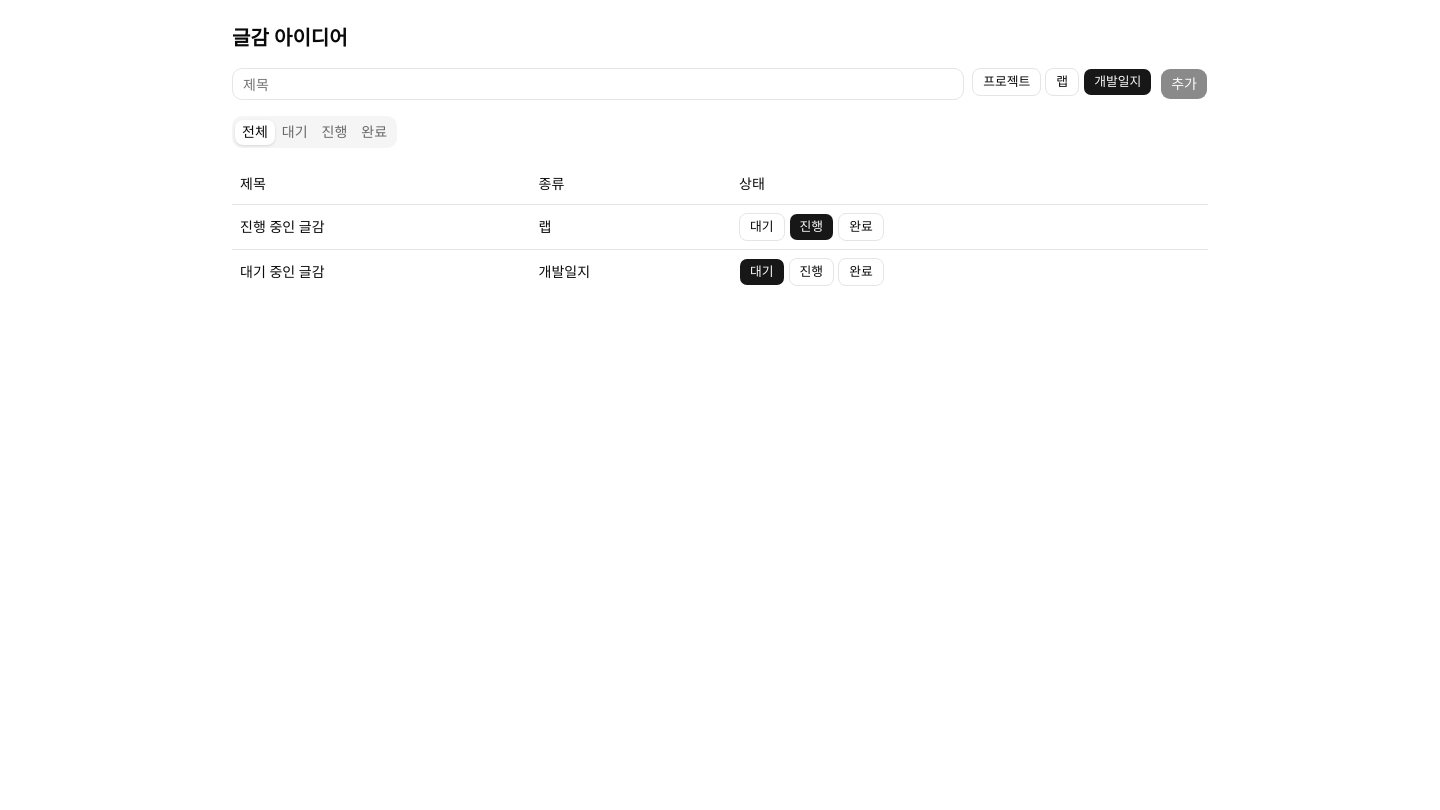
IdeasPage 수정 › 정상 › 수정 다이얼로그에서 취소하면 상세 모달로 돌아가 수정 전 내용이 보여야 한다
Click the text "진행 중인 글감" at {"x": 282, "y": 226}, box 232,204 -> 531,249
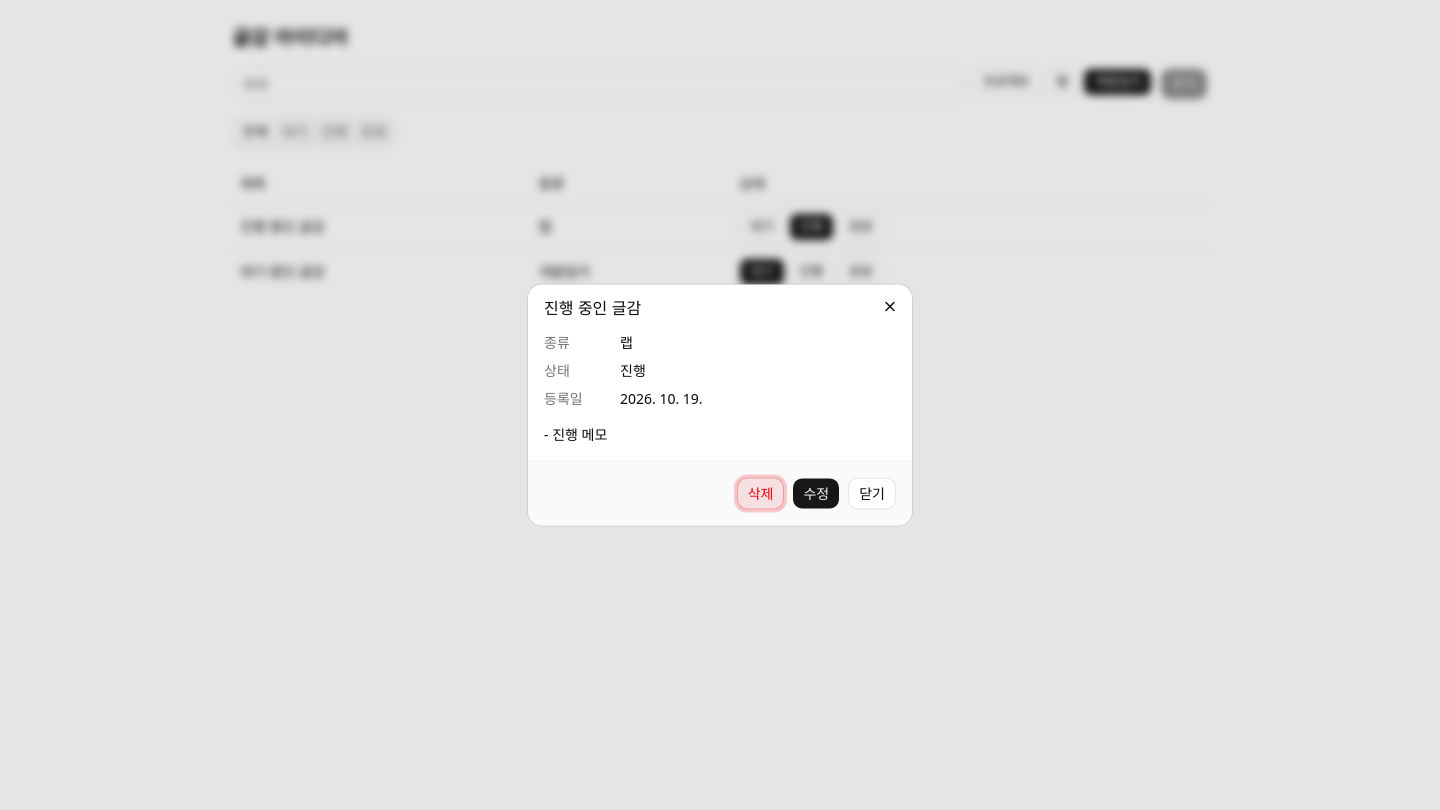
Click the button "수정" at {"x": 816, "y": 494}, box 792,478 -> 840,510
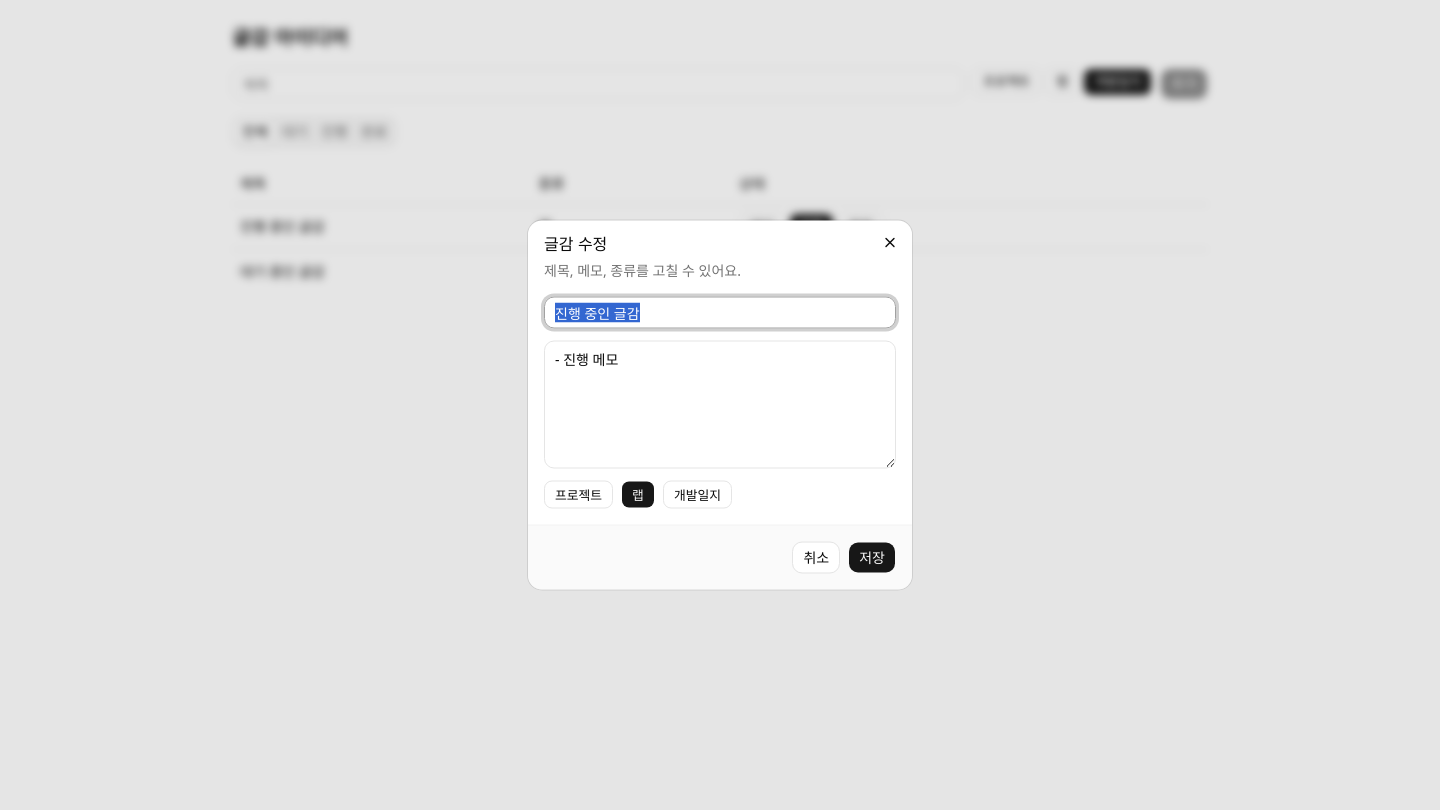
Expected: the button "저장" is shown, 848,542 -> 896,574
Replace the text in the field with placeholder "제목" with "저장하지 않을 제목" at {"x": 720, "y": 312}, box 544,296 -> 896,328
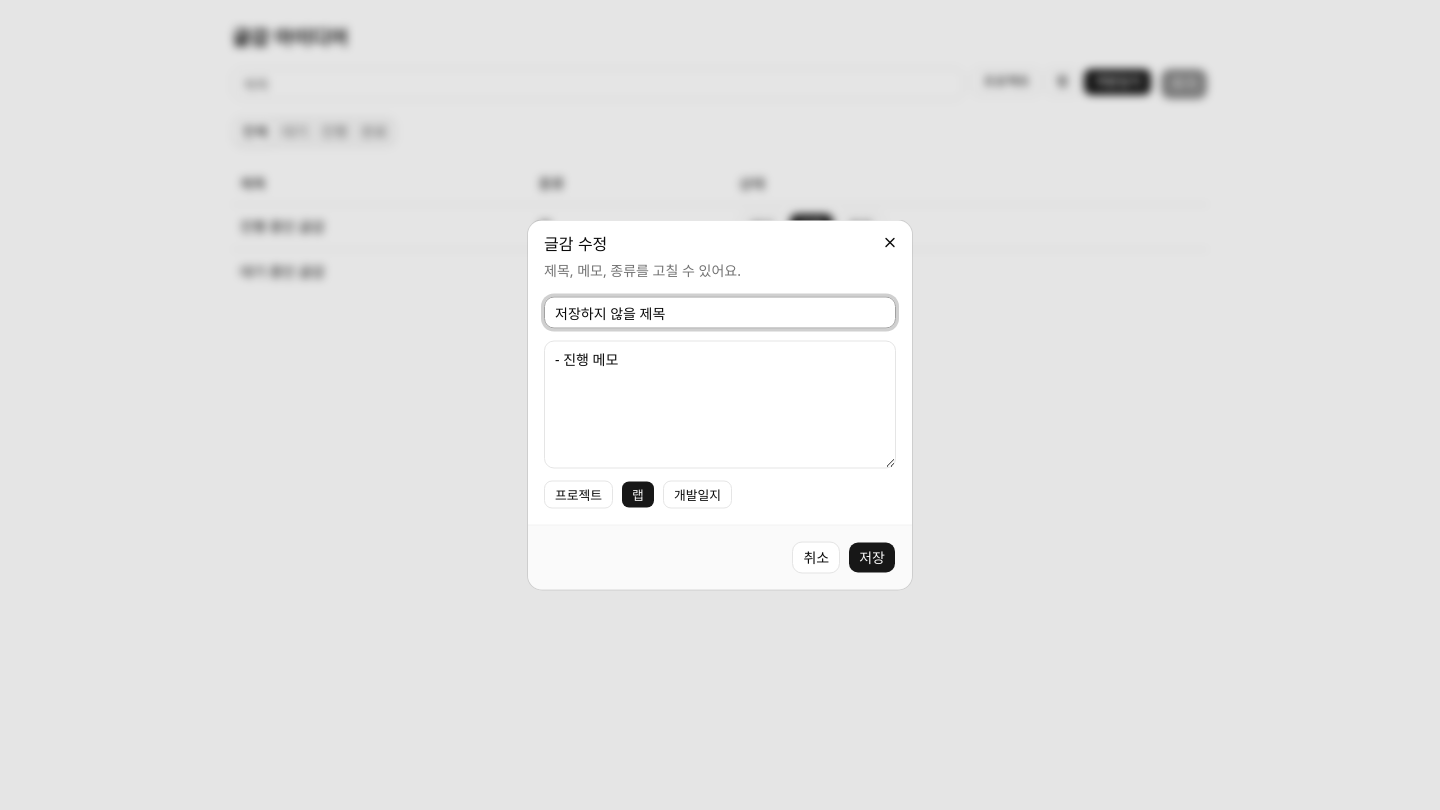
Click the button "취소" at {"x": 816, "y": 558}, box 792,542 -> 840,574
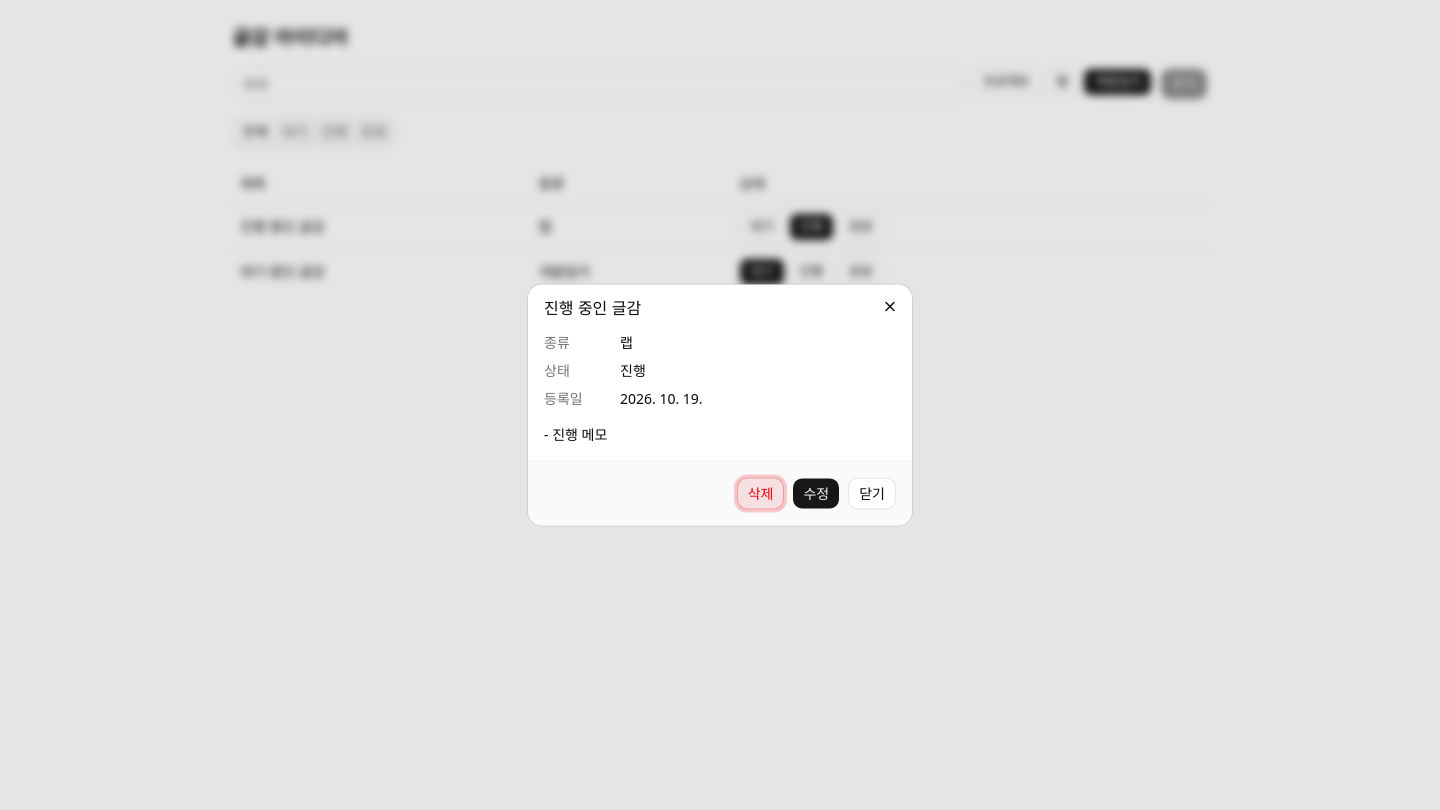
Expected: the button "수정" is shown, 792,478 -> 840,510
Expected: the heading "진행 중인 글감" is shown, 544,300 -> 641,316
